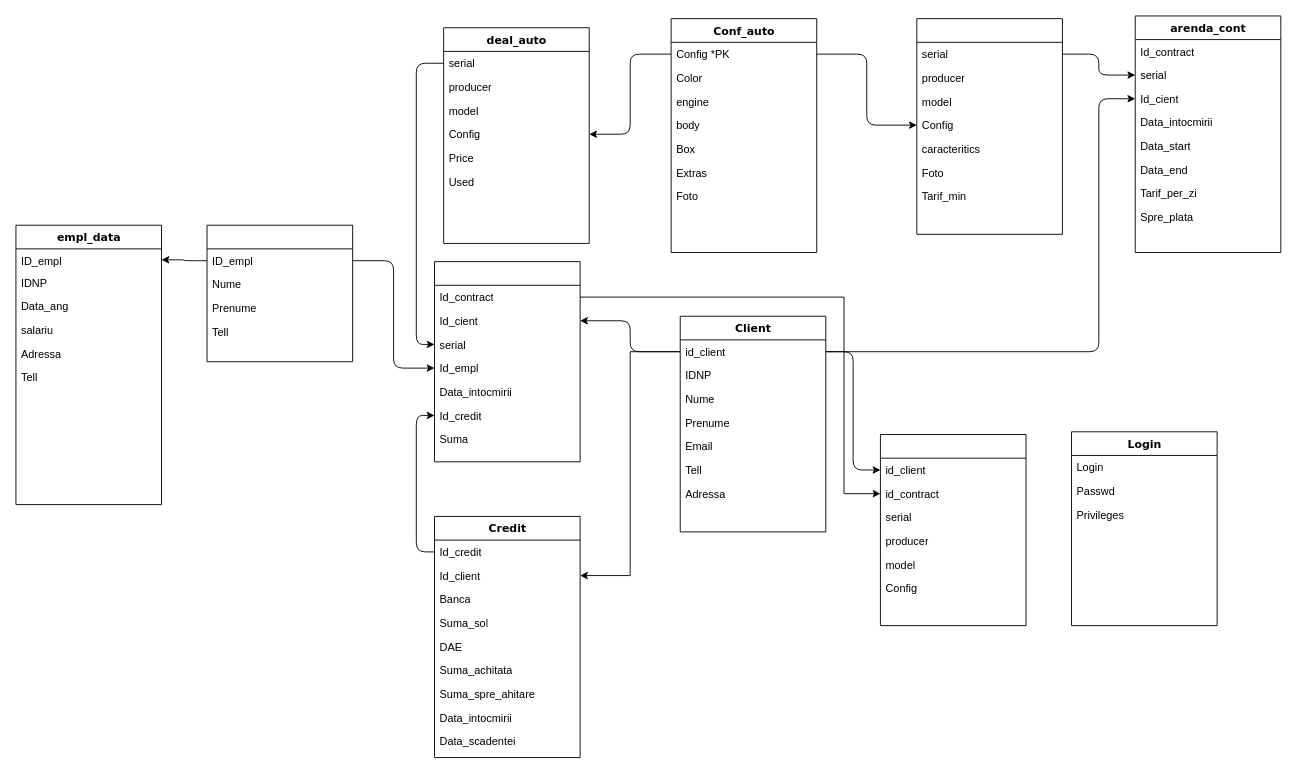
Some shapes in this 1297 by 774 pixel diagram are drawn without their labels. Each missing label, with the box of its shape:
arenda_auto: (916, 18, 1062, 234)
deal_cont: (434, 261, 580, 462)
employee: (206, 224, 353, 362)
ownership: (880, 434, 1026, 626)
